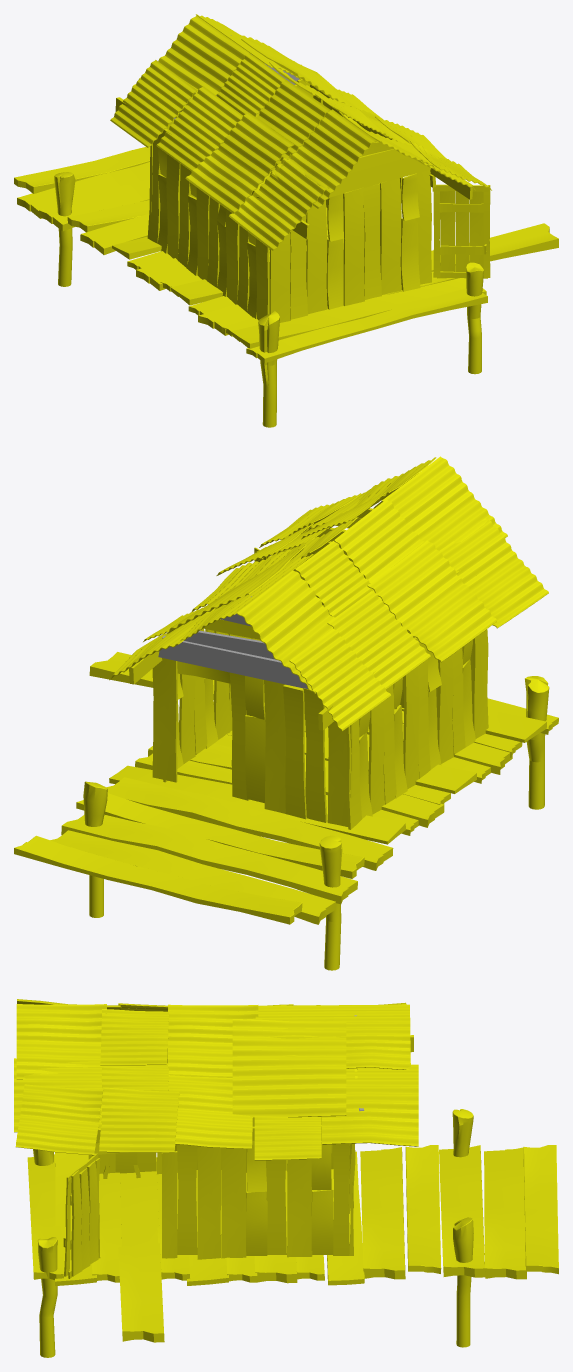
The model's file is obj_shack_uvs.fbx.
The picture shows the model from 3 angles, top to bottom: view 1: azimuth 30°, elevation 25°; view 2: azimuth 150°, elevation 25°; view 3: azimuth 270°, elevation 25°; orthographic projection. The views are drawn at different scales.
Visible parts, largest first — view 1: obj_shack_uvs; view 2: obj_shack_uvs; view 3: obj_shack_uvs.
Part boxes in pixels (x1,y1,x2,y2): obj_shack_uvs: [14, 14, 558, 427]; obj_shack_uvs: [14, 456, 558, 970]; obj_shack_uvs: [14, 999, 558, 1357].
Bounding box in the file's own units: 14.71 × 10.45 × 17.45.
